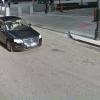Car: (3, 8, 46, 64)
